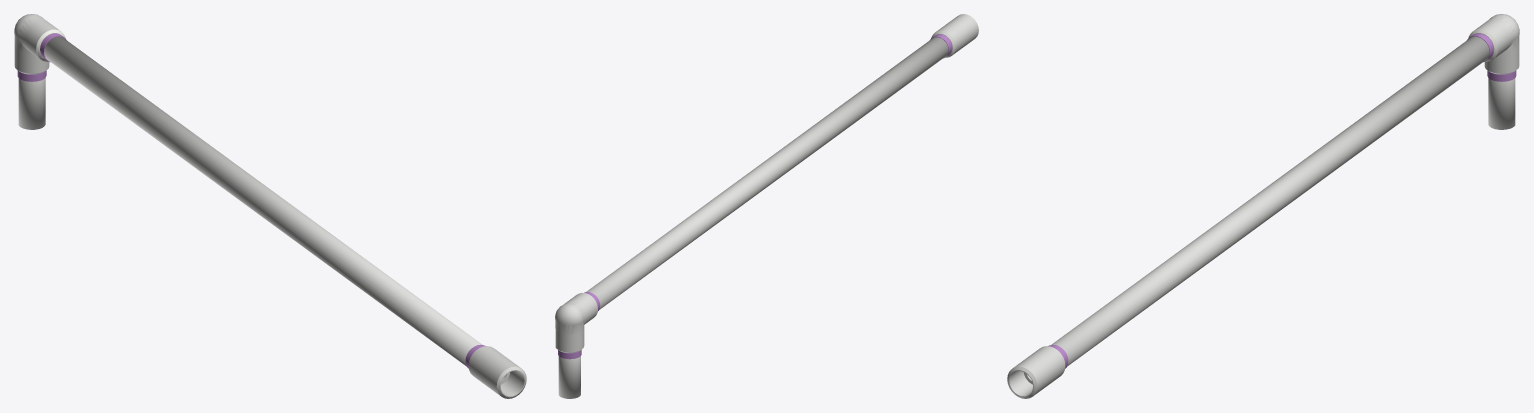
Rendered from pipes_dwv__water_heater-garage_tankless.glb.
3 views of the same model, side by side, from view 1: azimuth 30°, elevation 25°; view 2: azimuth 150°, elevation 25°; view 3: azimuth 330°, elevation 25° (orthographic). The views are drawn at different scales.
Parts seen in each view (by area): view 1: pipe_dwv_condensate_wh_tankless, fit_adapter_pipe_dwv_condensate_wh_tankless; view 2: pipe_dwv_condensate_wh_tankless, fit_adapter_pipe_dwv_condensate_wh_tankless; view 3: pipe_dwv_condensate_wh_tankless, fit_adapter_pipe_dwv_condensate_wh_tankless.
Part boxes in pixels (left/top/right/bottom): pipe_dwv_condensate_wh_tankless: left=14, top=14, right=482, bottom=366; fit_adapter_pipe_dwv_condensate_wh_tankless: left=465, top=344, right=526, bottom=398; pipe_dwv_condensate_wh_tankless: left=555, top=37, right=948, bottom=398; fit_adapter_pipe_dwv_condensate_wh_tankless: left=930, top=14, right=978, bottom=58; pipe_dwv_condensate_wh_tankless: left=1051, top=14, right=1519, bottom=366; fit_adapter_pipe_dwv_condensate_wh_tankless: left=1007, top=345, right=1068, bottom=398.
Size of the model in its own units: 0.028 by 0.0939 by 0.7675.
